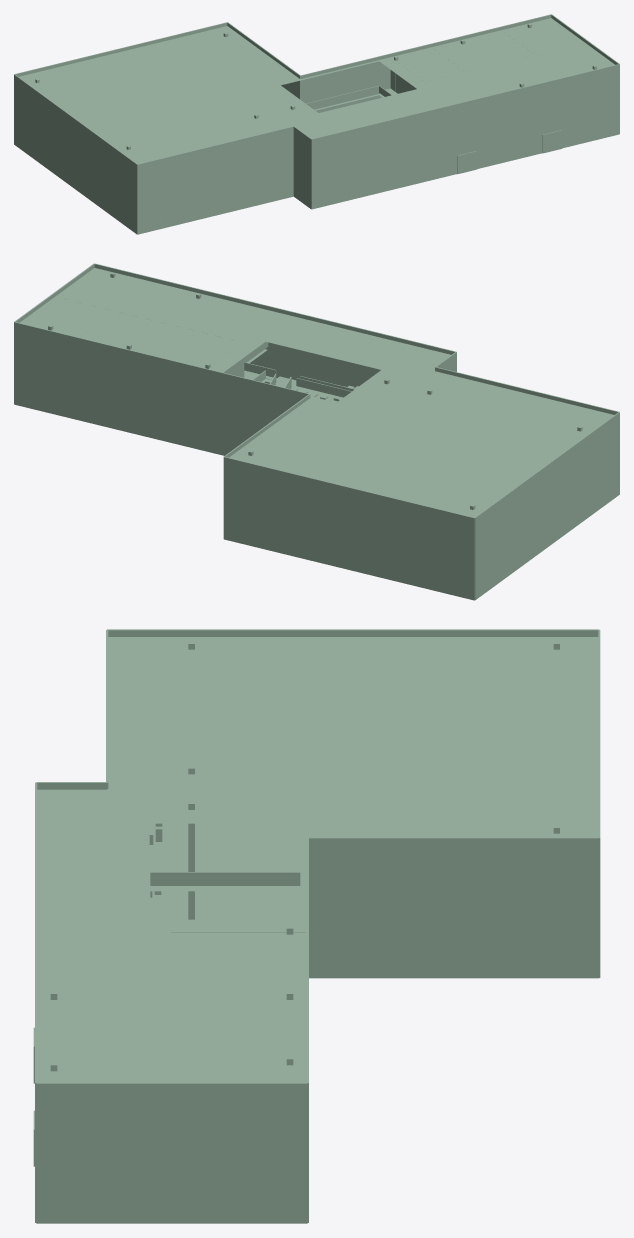
The model's file is physics.glb.
3 renders of one model, top to bottom at view 1: azimuth 30°, elevation 25°; view 2: azimuth 150°, elevation 25°; view 3: azimuth 270°, elevation 25°, orthographic. The views are drawn at different scales.
Visible parts, largest first — view 1: interior-walls, interior-ceilings; view 2: interior-walls, interior-ceilings; view 3: interior-ceilings, interior-walls, interior-ground.
Part boxes in pixels (box(x1,y1,x2,y2)): interior-walls: box(14, 14, 619, 234); interior-ceilings: box(19, 18, 614, 163); interior-walls: box(14, 263, 619, 600); interior-ceilings: box(19, 268, 613, 517); interior-ceilings: box(37, 637, 598, 1082); interior-walls: box(33, 629, 600, 1223); interior-ground: box(149, 823, 301, 919).
Bounding box in the file's own units: 76.5 × 11.34 × 40.37.
